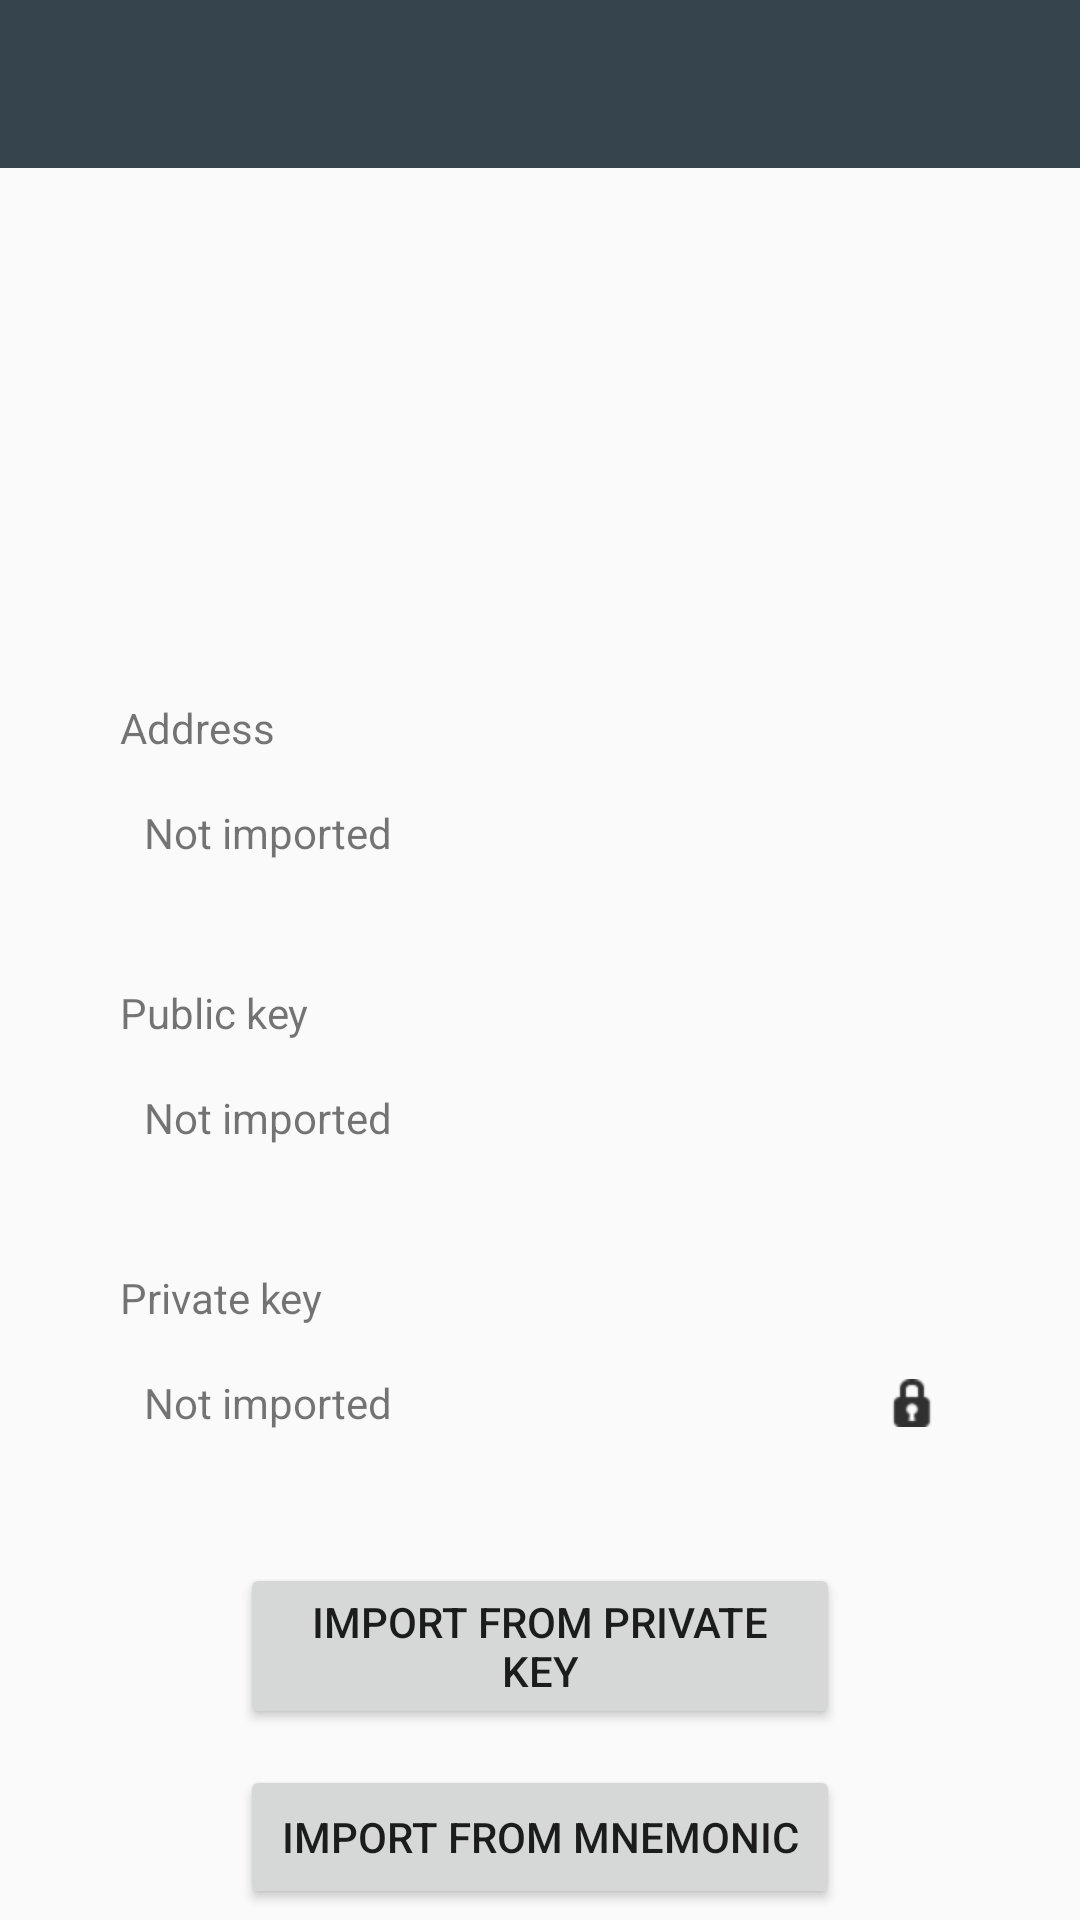

Locate icon controls on the screen. Image size 1080w x 1920h, boxes as (x1, y1, x2, y2).
secure: (893, 1379, 931, 1427)
